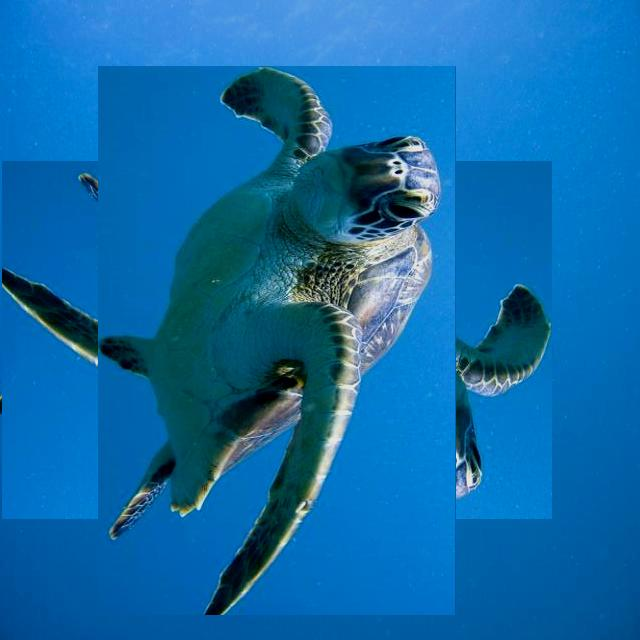Sea turtle: (50, 113, 504, 568)
